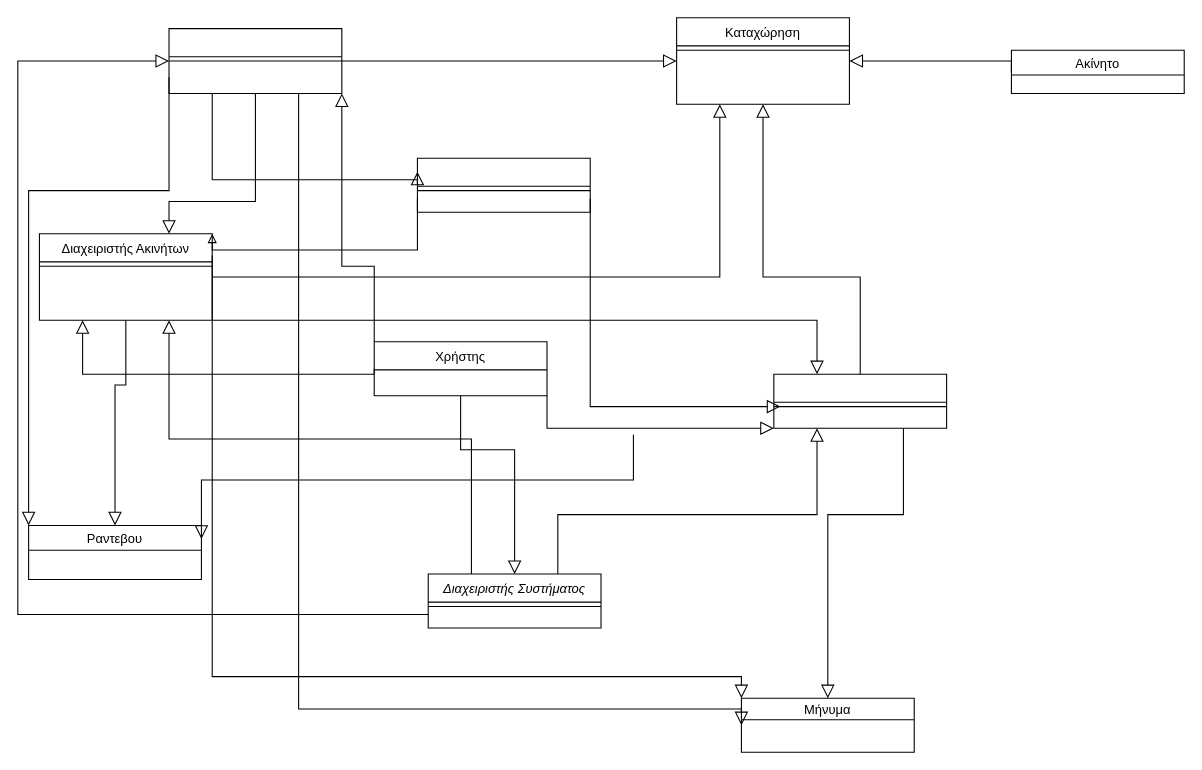
This 1202x770 diagram has some shape labels left out. The shapes that lost their labels are listed below. From the top down, each one's centre as x and y in pixels, then its label:
(255,60): Ιδιώτης
(503,184): Πληρωμή
(860,400): Μεσίτης
